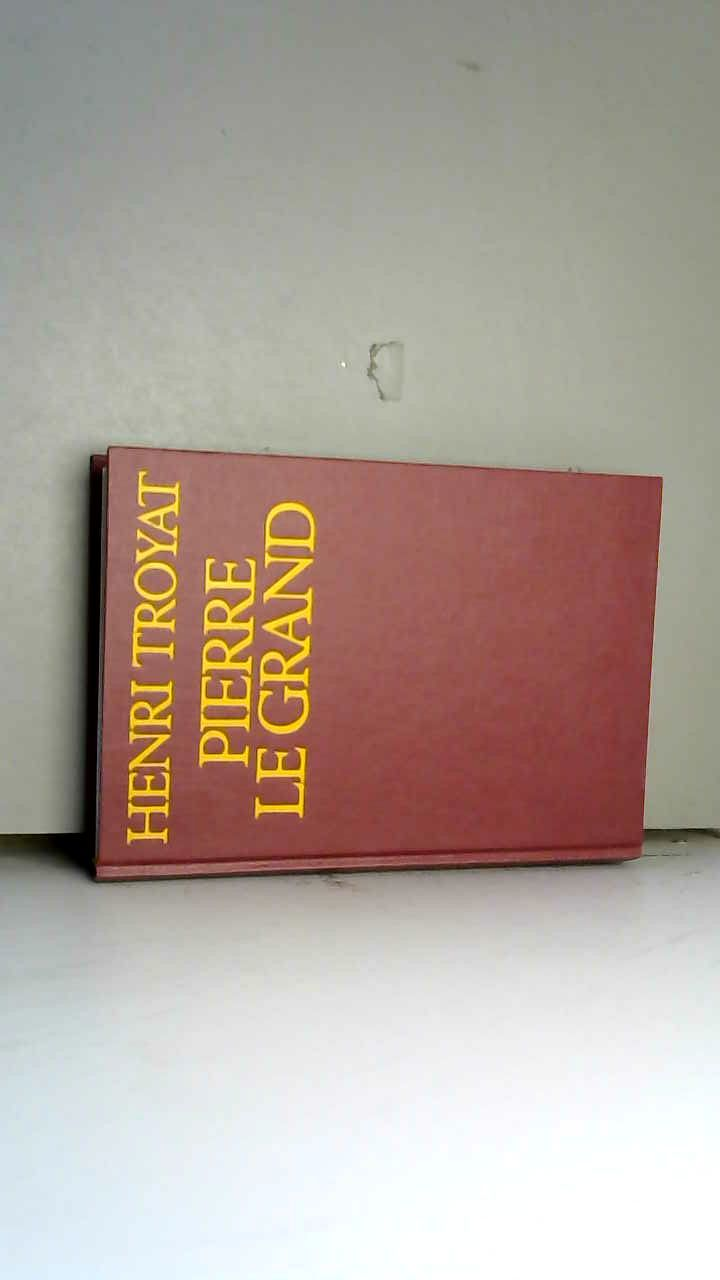book: (69, 439, 679, 896)
